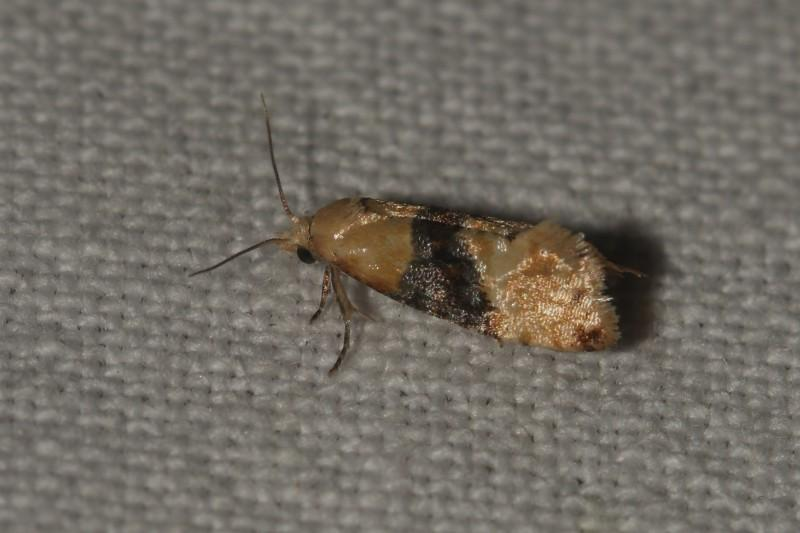Eupoecilia Ambiguella: (186, 90, 647, 379)
